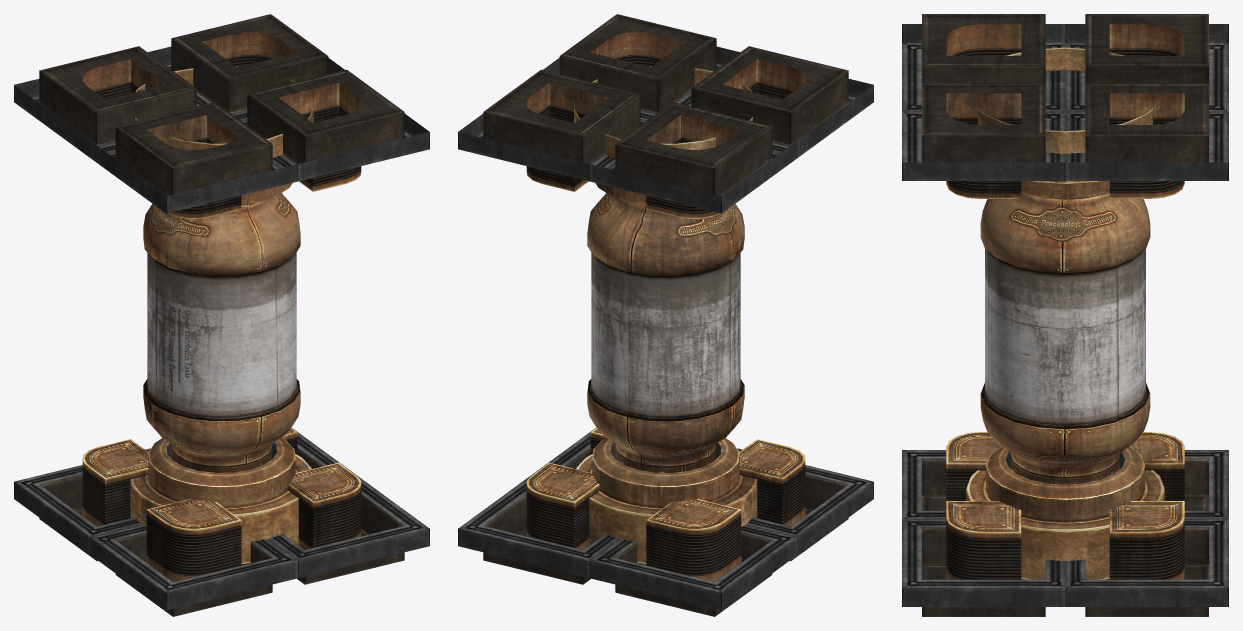
The model's file is tesla_props_giant_fuse_01.dae.
3 renders of one model, left to right at view 1: azimuth 30°, elevation 25°; view 2: azimuth 150°, elevation 25°; view 3: azimuth 270°, elevation 25°, orthographic. The views are drawn at different scales.
Parts seen in each view (by area): view 1: polySurface79; view 2: polySurface79; view 3: polySurface79.
Boxes of the visible parts, bbox=[...] form: polySurface79: bbox=[14, 14, 429, 616]; polySurface79: bbox=[458, 14, 873, 616]; polySurface79: bbox=[902, 14, 1228, 616].
Bounding box in the file's own units: 4 × 6.51 × 4.
1 material, 1 textured.
